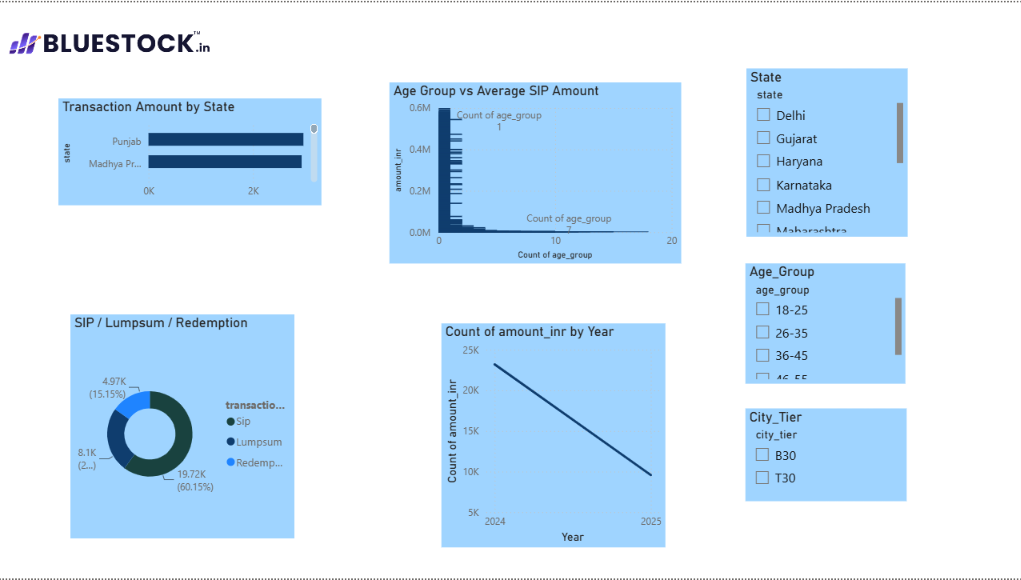

The page's visual inventory and layout, read from the dashboard file:
{"tool":"powerbi","page":{"name":"Investor Analytics","canvas":[1280,720],"ordinal":2},"visuals":[{"type":"clusteredBarChart","title":"Transaction Amount by State","fields":{"Category":["08_investor_transactions_cleaned.state"],"Y":["CountNonNull(08_investor_transactions_cleaned.amount_inr)"]},"box":[75,120,328.8,133.8],"z":0},{"type":"donutChart","title":"SIP / Lumpsum / Redemption","fields":{"Category":["08_investor_transactions_cleaned.transaction_type"],"Y":["CountNonNull(08_investor_transactions_cleaned.amount_inr)"]},"box":[90,390,280,280],"z":1000},{"type":"clusteredBarChart","title":"Age Group vs Average SIP Amount","fields":{"Y":["CountNonNull(08_investor_transactions_cleaned.age_group)"],"Category":["08_investor_transactions_cleaned.amount_inr"]},"box":[488.8,100,365,226.2],"z":2000},{"type":"lineChart","fields":{"Category":["08_investor_transactions_cleaned.transaction_date.Variation.Date Hierarchy.Year","08_investor_transactions_cleaned.transaction_date.Variation.Date Hierarchy.Quarter","08_investor_transactions_cleaned.transaction_date.Variation.Date Hierarchy.Month","08_investor_transactions_cleaned.transaction_date.Variation.Date Hierarchy.Day"],"Y":["CountNonNull(08_investor_transactions_cleaned.amount_inr)"]},"box":[553.8,401.2,280,280],"z":3000},{"type":"slicer","title":"State","fields":{"Values":["08_investor_transactions_cleaned.state"]},"box":[935,82.5,201.2,210],"z":4000},{"type":"slicer","title":"Age_Group","fields":{"Values":["08_investor_transactions_cleaned.age_group"]},"box":[933.8,326.2,200,150],"z":5000},{"type":"slicer","title":"City_Tier","fields":{"Values":["08_investor_transactions_cleaned.city_tier"]},"box":[933.8,507.5,201.2,116.2],"z":6000},{"type":"image","box":[12.5,0,253.8,100],"z":6001}]}

Visuals, with their boxes in screenshot pixels (x1, y1, x2, y2), scaled from the page's 1280x720 canvas onto the 1021x580 screenshot:
"Transaction Amount by State" clusteredBarChart: box=[60, 97, 322, 204]
"SIP / Lumpsum / Redemption" donutChart: box=[72, 314, 295, 540]
"Age Group vs Average SIP Amount" clusteredBarChart: box=[390, 81, 681, 263]
lineChart - 08_investor_transactions_cleaned.transaction_date.Variation.Date Hierarchy.Year x 08_investor_transactions_cleaned.transaction_date.Variation.Date Hierarchy.Quarter: box=[442, 323, 665, 549]
"State" slicer: box=[746, 66, 906, 236]
"Age_Group" slicer: box=[745, 263, 904, 384]
"City_Tier" slicer: box=[745, 409, 905, 502]
image: box=[10, 0, 212, 81]
